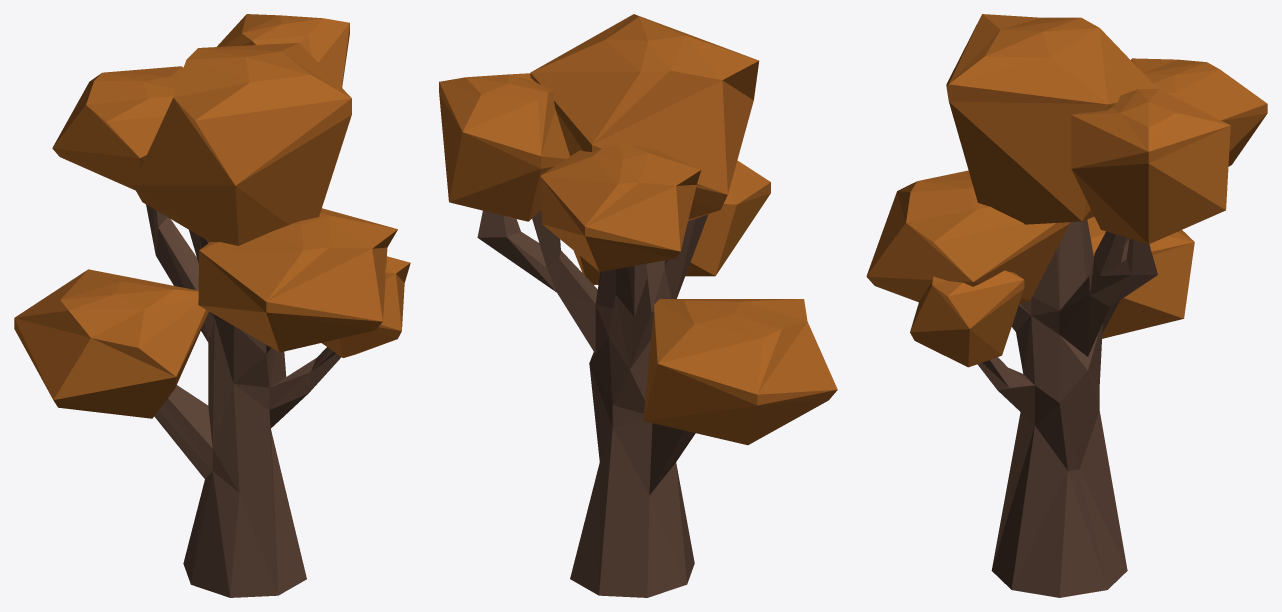
The model's file is TreeBranched.fbx.
3 views of the same model, side by side, from view 1: azimuth 30°, elevation 25°; view 2: azimuth 150°, elevation 25°; view 3: azimuth 270°, elevation 25° (orthographic). The views are drawn at different scales.
Visible parts, largest first — view 1: Leaves6, TreeBranched; view 2: Leaves6, TreeBranched; view 3: Leaves6, TreeBranched.
Part boxes in pixels (x1,y1,x2,y2): Leaves6: [14, 14, 410, 418]; TreeBranched: [146, 204, 341, 597]; Leaves6: [439, 14, 837, 445]; TreeBranched: [477, 210, 708, 597]; Leaves6: [866, 14, 1267, 367]; TreeBranched: [977, 219, 1157, 597].
Size of the model in its own units: 4.79 by 6.91 by 4.69.
